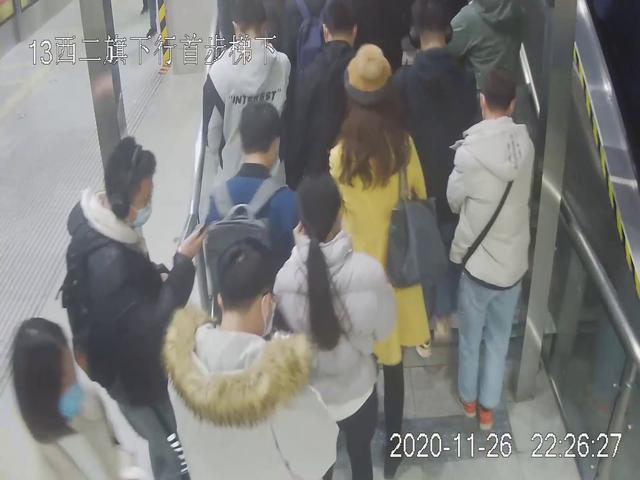person: (64, 129, 207, 480), (331, 42, 441, 480), (160, 235, 342, 480), (271, 168, 398, 480), (384, 1, 489, 359), (443, 66, 534, 435), (198, 1, 294, 243)
